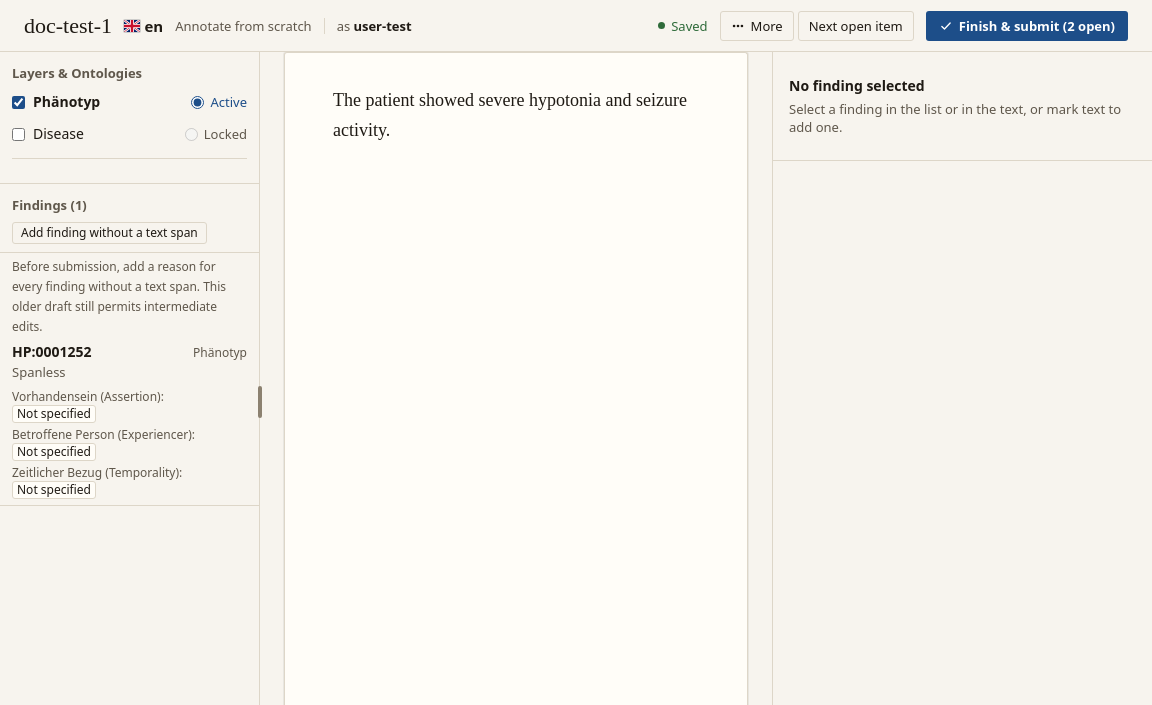
Test: CaseScreen integration › editor logout guard › a_command_rejected_while_logout_waits_does_not_log_out
Click the button that starts with "HP:0001252" at (130, 422), box [0,337,259,506]
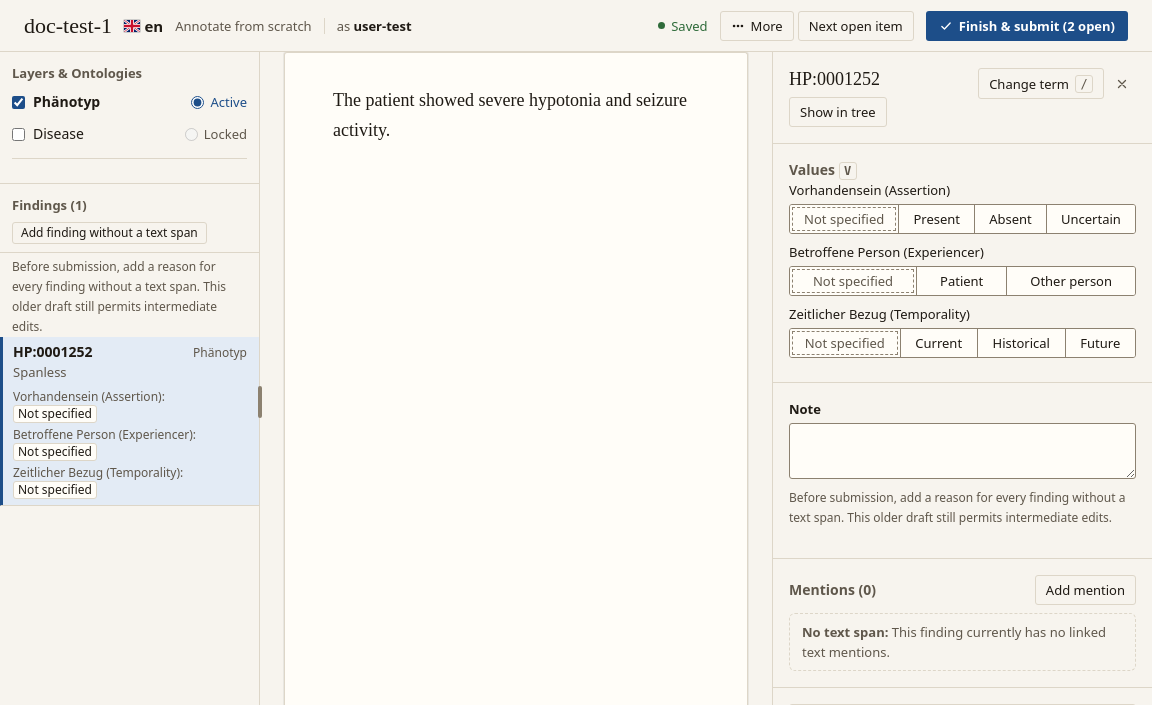
Click the radio button labelled "Present" at (936, 219), box [898,205,974,233]
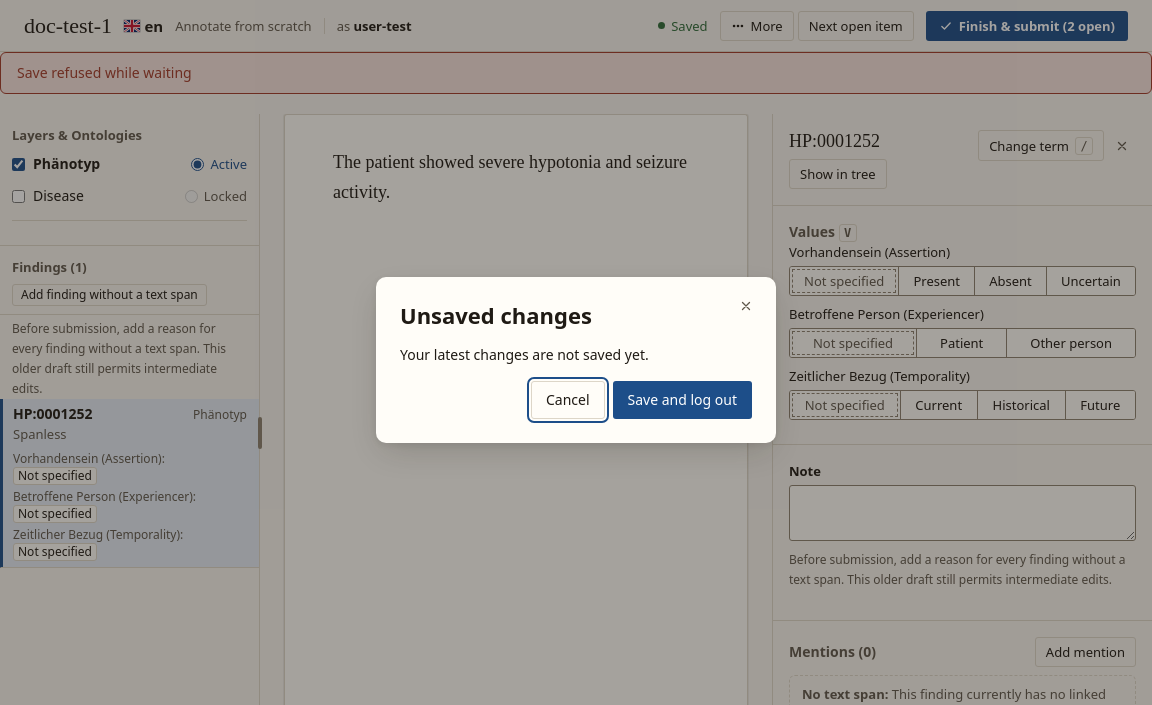
Expected: the dialog "Unsaved changes" is shown, [376,277,776,443]
Expected: the text "Save refused while waiting" is shown, [17,63,192,83]
Click the button "Save and log out" at (682, 400), box [612,381,752,419]
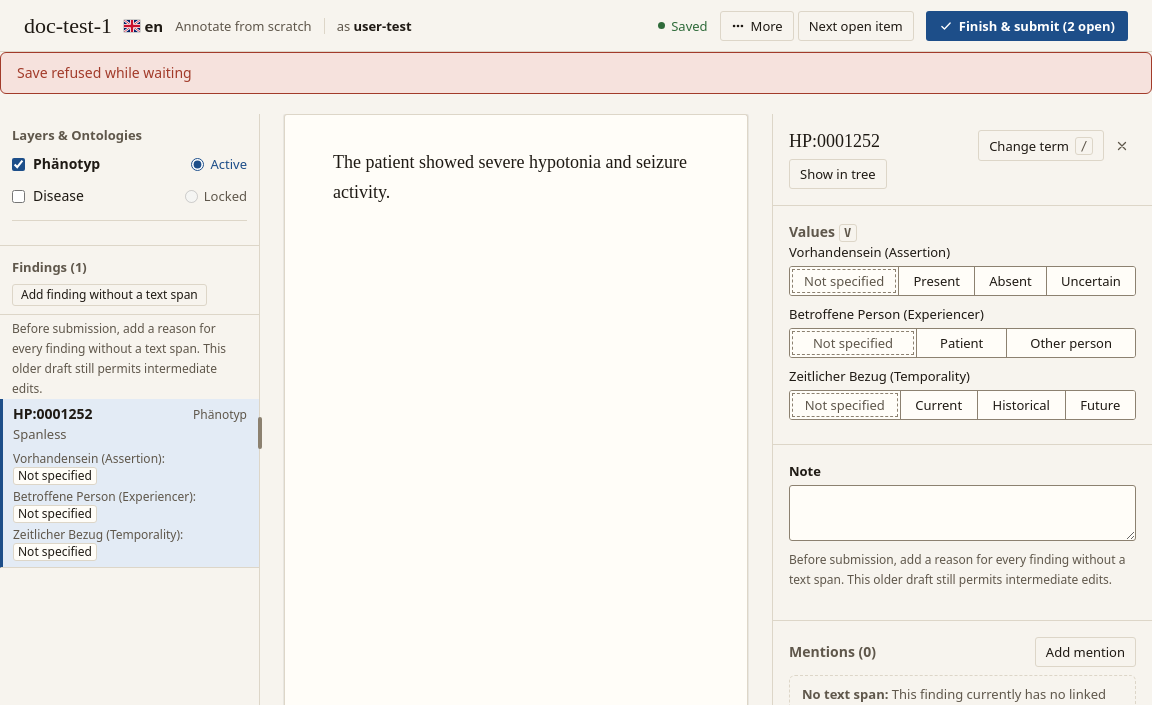
Expected: the element named "Case" is shown, [0,0,1151,52]
Expected: the message "Save refused while waiting" is shown, [0,52,1151,94]
Expected: the dialog is gone
